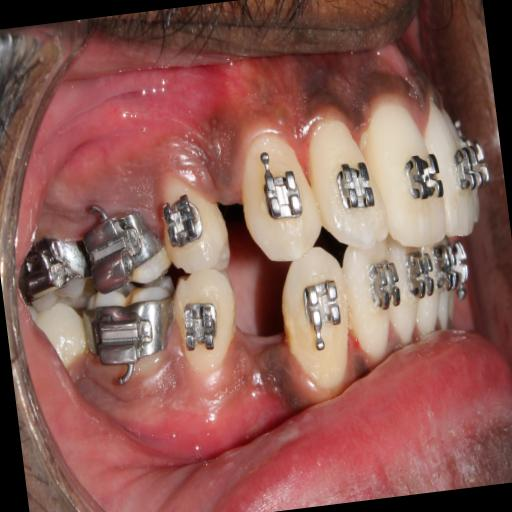correct_brace: (170, 267, 244, 381), (158, 169, 232, 278), (299, 274, 346, 350), (258, 145, 304, 222), (182, 296, 222, 358), (334, 158, 376, 212)
incorrect_brace: (306, 106, 391, 252), (162, 190, 206, 252)
